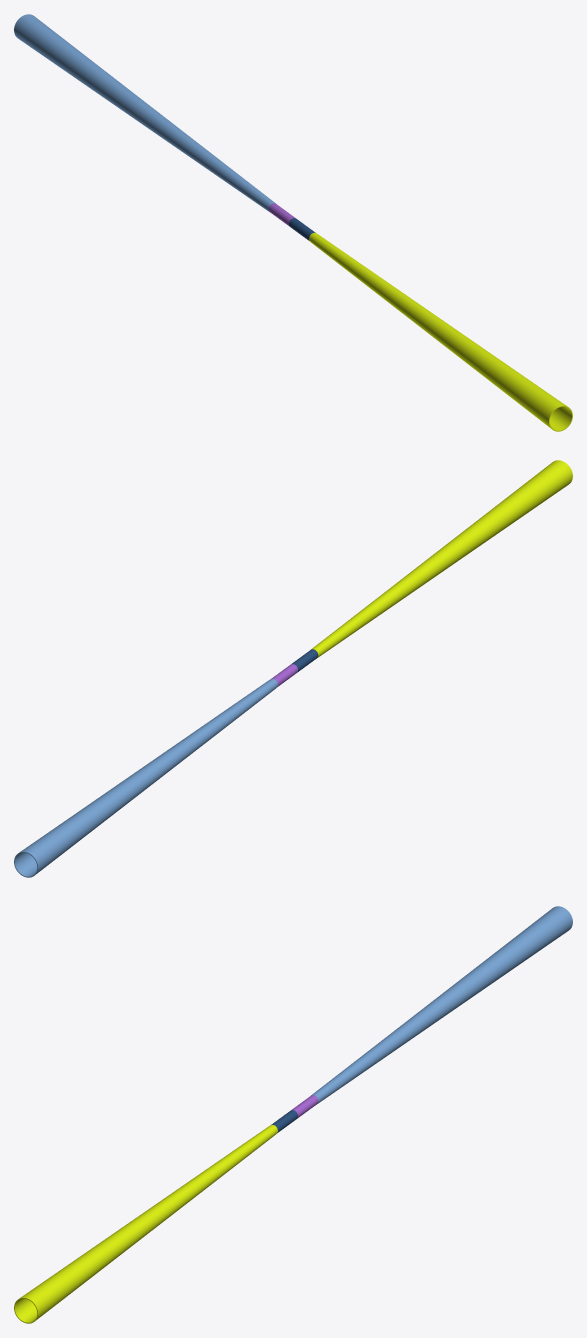
File: IDEA_o2_v01.gltf
3 views of the same model, one above another, from view 1: azimuth 30°, elevation 25°; view 2: azimuth 150°, elevation 25°; view 3: azimuth 330°, elevation 25° (orthographic).
Visible parts, largest first — view 1: tube_AlBeMet162_wall_6, tube_AlBeMet162_wall2_7; view 2: tube_AlBeMet162_wall2_7, tube_AlBeMet162_wall_6; view 3: tube_AlBeMet162_wall_6, tube_AlBeMet162_wall2_7.
Part boxes in pixels (x1=…): tube_AlBeMet162_wall_6: x1=309, y1=232, x2=572, y2=431; tube_AlBeMet162_wall2_7: x1=14, y1=14, x2=275, y2=211; tube_AlBeMet162_wall2_7: x1=14, y1=678, x2=277, y2=877; tube_AlBeMet162_wall_6: x1=311, y1=460, x2=572, y2=657; tube_AlBeMet162_wall_6: x1=14, y1=1124, x2=277, y2=1323; tube_AlBeMet162_wall2_7: x1=311, y1=906, x2=572, y2=1103.
Bounding box in the file's own units: 6.18 × 6.15 × 238.
